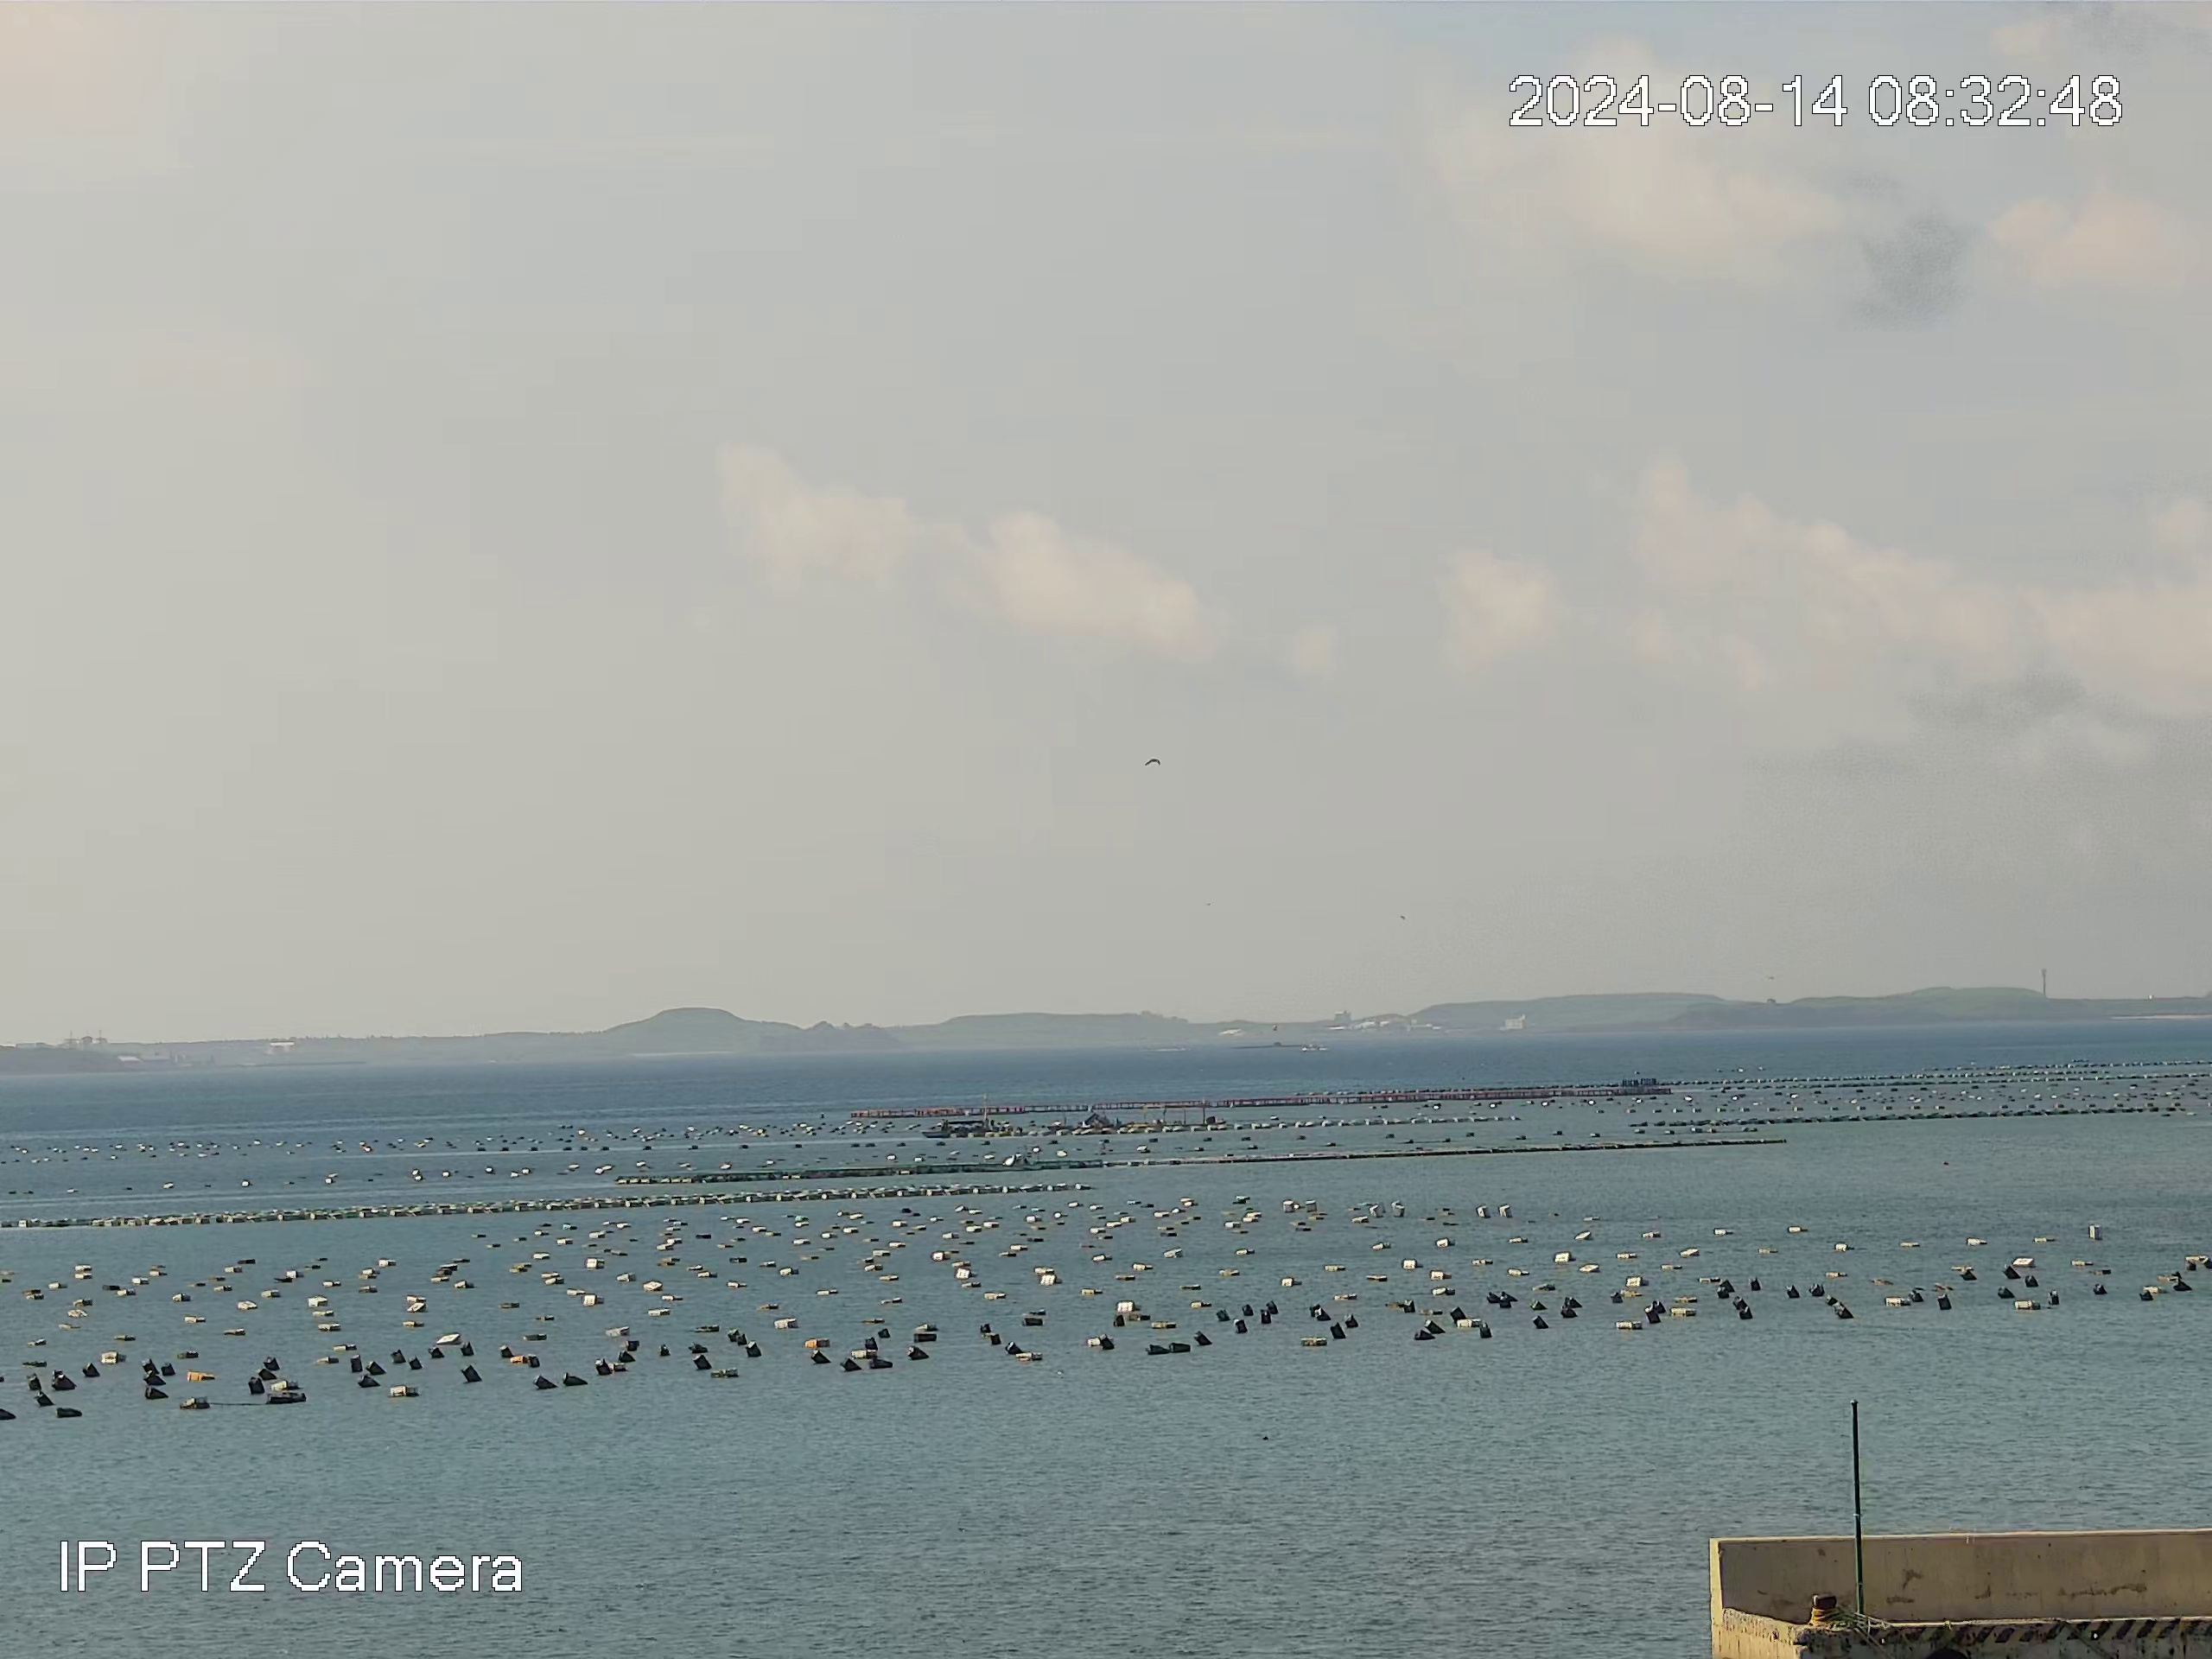boat: (925, 1117, 1007, 1140)
